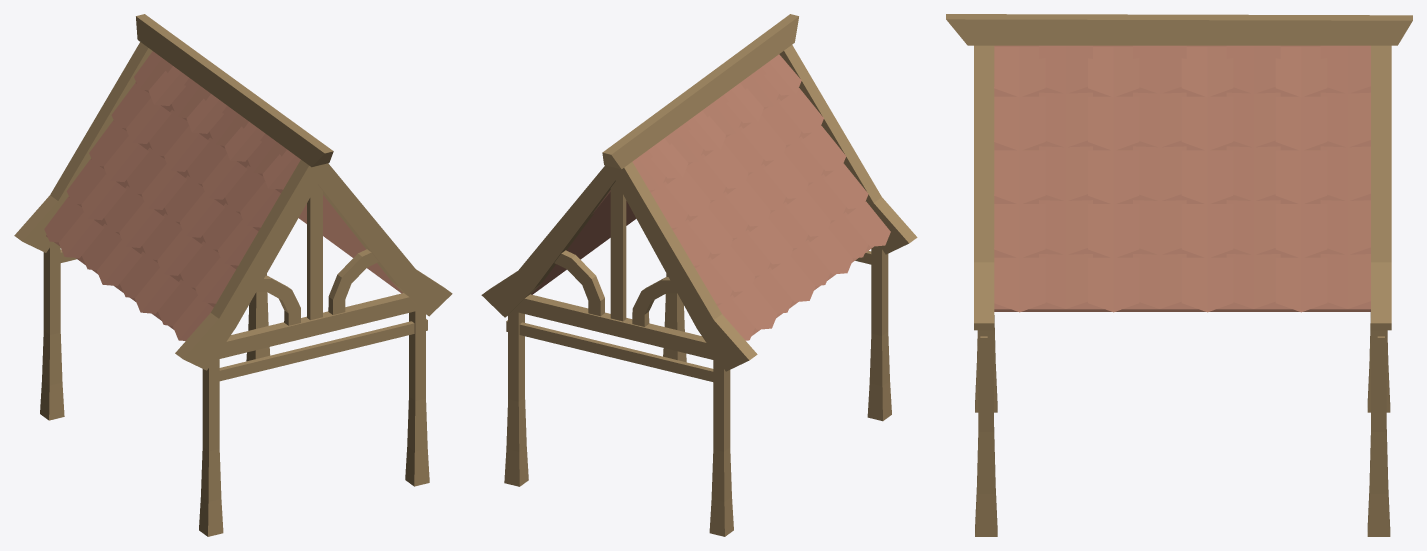
Rendered from garden-gazebo.glb.
3 renders of one model, left to right at view 1: azimuth 30°, elevation 25°; view 2: azimuth 150°, elevation 25°; view 3: azimuth 270°, elevation 25°, orthographic. The views are drawn at different scales.
Parts seen in each view (by area): view 1: Gazebo; view 2: Gazebo; view 3: Gazebo.
Part boxes in pixels (x1=…): Gazebo: x1=14, y1=14, x2=452, y2=536; Gazebo: x1=481, y1=14, x2=917, y2=536; Gazebo: x1=946, y1=14, x2=1412, y2=536.
Bounding box in the file's own units: 1.04 × 1.35 × 1.26.
